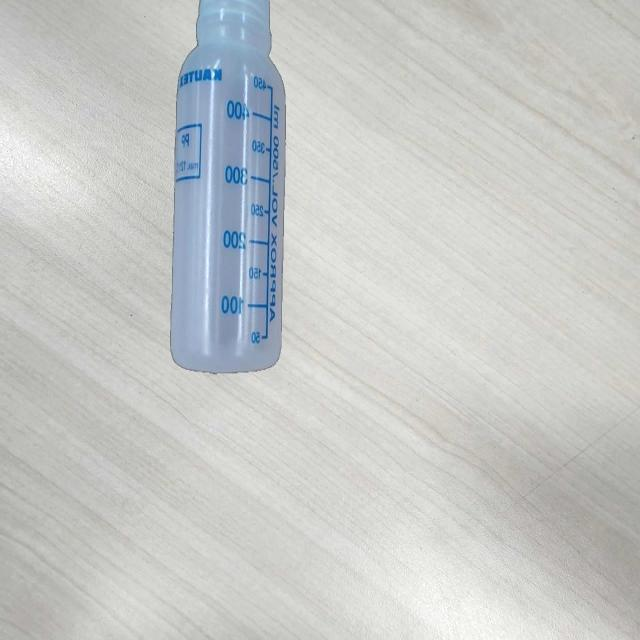bottle: (167, 0, 284, 381)
